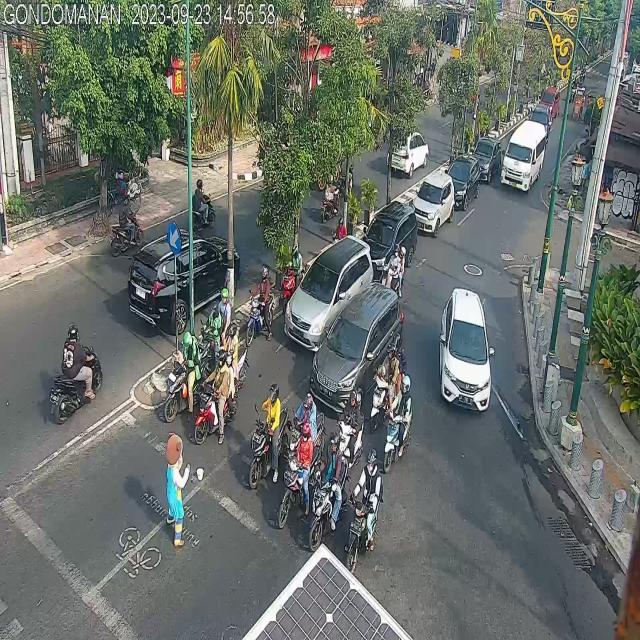bus: (501, 121, 545, 192)
car: (314, 286, 404, 415), (129, 230, 242, 322), (286, 238, 375, 350), (438, 289, 493, 407), (361, 198, 417, 274), (413, 173, 456, 235), (441, 153, 480, 210), (386, 130, 428, 179), (474, 140, 501, 180)
motorcycle: (46, 322, 107, 427), (346, 448, 382, 572), (310, 432, 347, 543), (196, 350, 237, 447), (282, 416, 319, 520), (249, 379, 284, 486), (167, 332, 202, 426), (385, 375, 411, 468), (245, 264, 274, 338), (112, 187, 140, 251), (337, 390, 362, 460), (190, 181, 218, 230), (320, 175, 340, 220), (338, 151, 354, 191)
